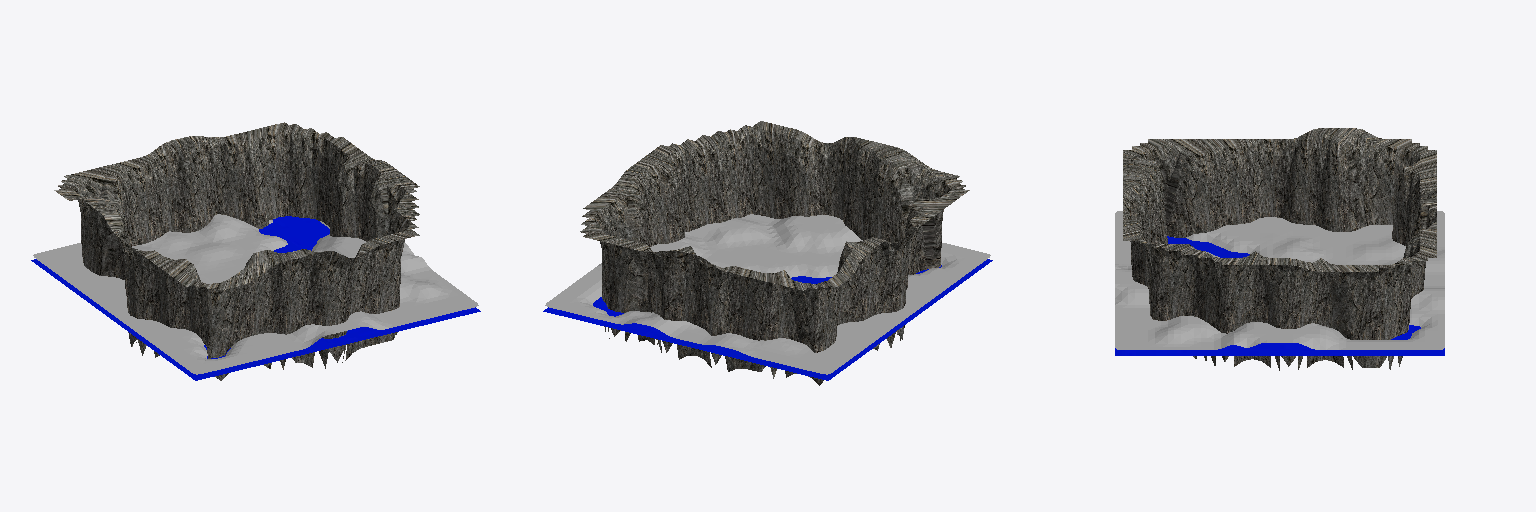
The picture shows the model from 3 angles: view 1: azimuth 30°, elevation 25°; view 2: azimuth 150°, elevation 25°; view 3: azimuth 270°, elevation 25°; orthographic projection.
Parts seen in each view (by area): view 1: Plane, Plane1, Plane2; view 2: Plane, Plane1, Plane2; view 3: Plane, Plane1, Plane2.
Boxes of the visible parts, box(x1,y1,x2,y2) form: Plane: box(54, 122, 419, 380); Plane1: box(33, 214, 478, 374); Plane2: box(31, 216, 480, 380); Plane: box(580, 121, 969, 385); Plane1: box(545, 214, 990, 374); Plane2: box(543, 259, 992, 380); Plane: box(1123, 128, 1436, 370); Plane1: box(1115, 211, 1444, 349); Plane2: box(1115, 236, 1444, 355).
Bounding box in the file's own units: 52.68 × 22.5 × 52.68.
Materials: 3 (2 with a texture image).